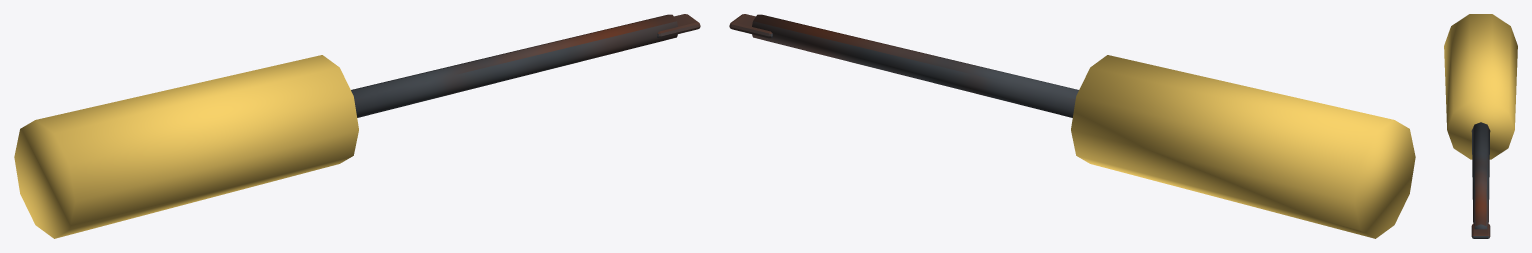
Rendered from item_screwdriver.glb.
3 renders of one model, left to right at view 1: azimuth 30°, elevation 25°; view 2: azimuth 150°, elevation 25°; view 3: azimuth 270°, elevation 25°, orthographic. The views are drawn at different scales.
Visible parts, largest first — view 1: Grip, Shaft, FlatTip; view 2: Grip, Shaft, FlatTip; view 3: Grip, Shaft, FlatTip.
Part boxes in pixels (x1,y1,x2,y2): Grip: (14,55,358,238); Shaft: (351,14,677,117); FlatTip: (657,14,700,38); Grip: (1071,55,1415,238); Shaft: (752,14,1078,117); FlatTip: (729,14,772,38); Grip: (1444,14,1517,159); Shaft: (1471,122,1490,229); FlatTip: (1471,223,1490,238).
Bounding box in the file's own units: 0.295 × 0.0457 × 0.048.
2 materials, 1 textured.
